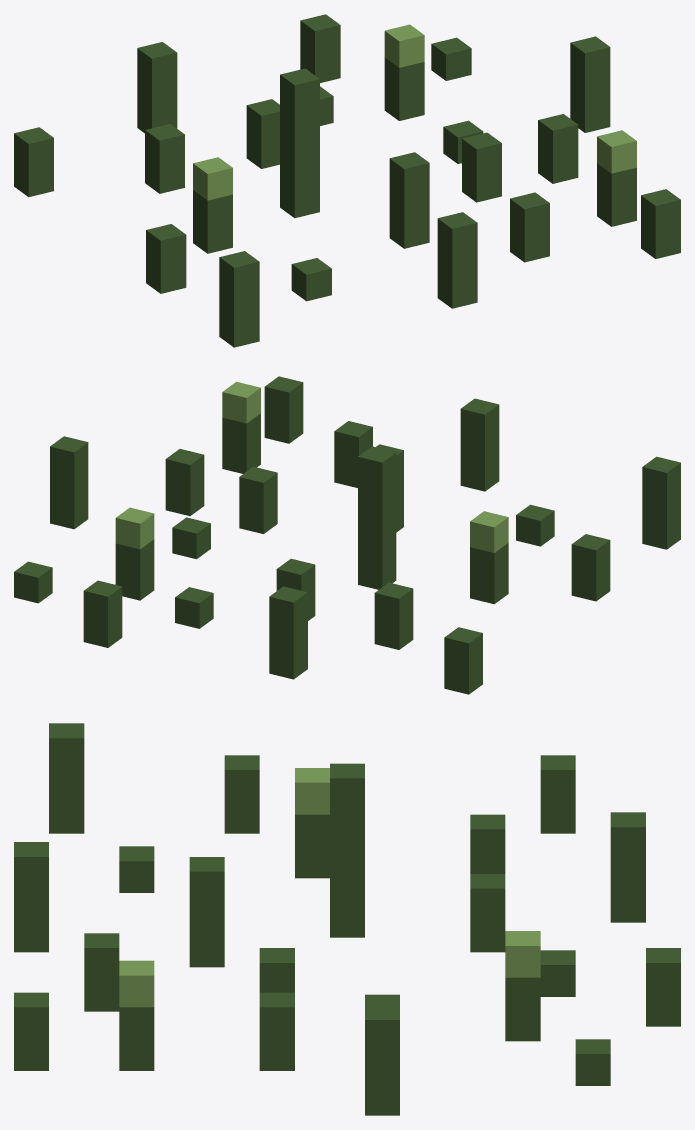
Rendered from ambient_grass_1.fbx.
3 renders of one model, top to bottom at view 1: azimuth 30°, elevation 25°; view 2: azimuth 150°, elevation 25°; view 3: azimuth 270°, elevation 25°, orthographic. The views are drawn at different scales.
Parts seen in each view (by area): view 1: Cube.025; view 2: Cube.025; view 3: Cube.025.
Part boxes in pixels (x1,y1,x2,y2): Cube.025: [14, 14, 680, 347]; Cube.025: [14, 376, 680, 694]; Cube.025: [14, 723, 680, 1115].
Size of the model in its own units: 200 by 50 by 190.
